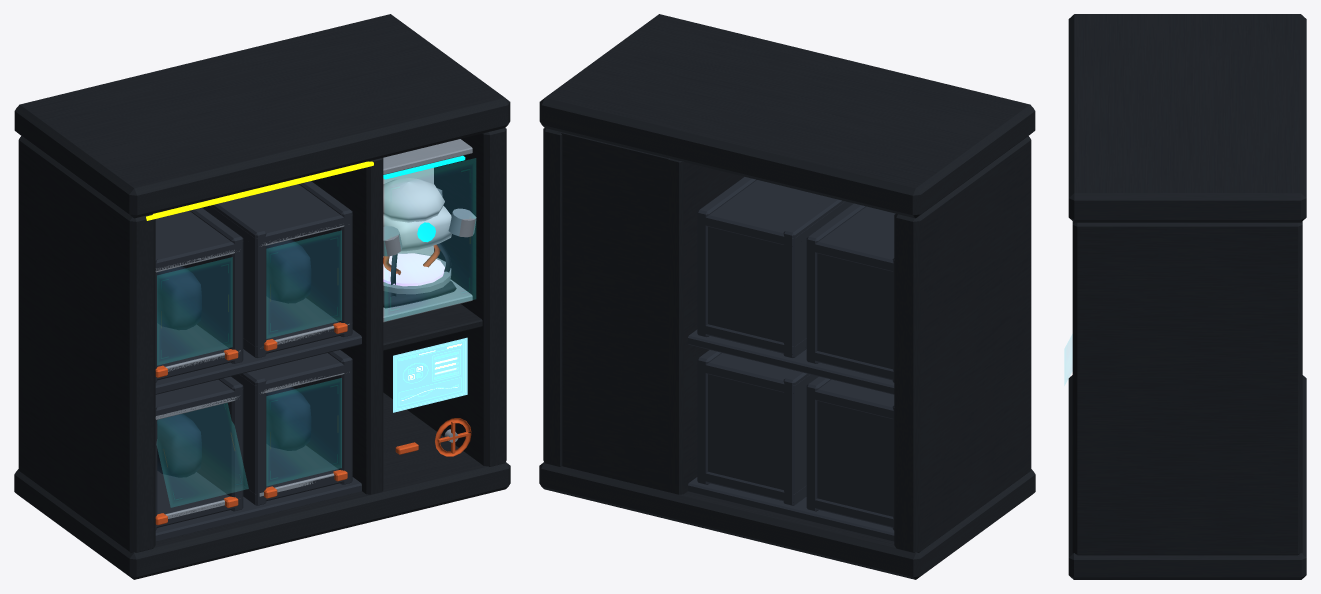
File: cargo_gantry_r1_02.glb
The picture shows the model from 3 angles, left to right: view 1: azimuth 30°, elevation 25°; view 2: azimuth 150°, elevation 25°; view 3: azimuth 270°, elevation 25°; orthographic projection.
Visible parts, largest first — view 1: Cargo02_SplitBayGunmetalGantry, Cargo02_CarbonSlateInterlockingMatrix, Cargo02_TranslucentContainerWindowsAndDroneShield, Cargo02_OrbitalNavyCargoBundles, Cargo02_MachinedHoistBeamAndDroneThrusters, Cargo02_RightTowerOLEDManifestTerminal, Cargo02_WhiteDroneCarapaceAndSupplyDrums, Cargo02_SignalOrangeTwistLocksClawsAndWinch, Cargo02_UVInductiveChargeCradle, Cargo02_AmberHoistAndSkidBeacons, Cargo02_CharcoalDroneCradleAndUmbilicals, Cargo02_CyanLiDARAndContainerLEDs; view 2: Cargo02_SplitBayGunmetalGantry, Cargo02_CarbonSlateInterlockingMatrix; view 3: Cargo02_SplitBayGunmetalGantry.
Part boxes in pixels (x1=…): Cargo02_SplitBayGunmetalGantry: x1=14, y1=14, x2=510, y2=579; Cargo02_CarbonSlateInterlockingMatrix: x1=155, y1=181, x2=361, y2=541; Cargo02_TranslucentContainerWindowsAndDroneShield: x1=157, y1=158, x2=475, y2=506; Cargo02_OrbitalNavyCargoBundles: x1=157, y1=240, x2=311, y2=477; Cargo02_MachinedHoistBeamAndDroneThrusters: x1=155, y1=139, x2=476, y2=518; Cargo02_RightTowerOLEDManifestTerminal: x1=393, y1=337, x2=467, y2=412; Cargo02_WhiteDroneCarapaceAndSupplyDrums: x1=383, y1=168, x2=451, y2=256; Cargo02_SignalOrangeTwistLocksClawsAndWinch: x1=155, y1=244, x2=471, y2=525; Cargo02_UVInductiveChargeCradle: x1=383, y1=253, x2=444, y2=286; Cargo02_AmberHoistAndSkidBeacons: x1=146, y1=161, x2=373, y2=220; Cargo02_CharcoalDroneCradleAndUmbilicals: x1=383, y1=242, x2=456, y2=308; Cargo02_CyanLiDARAndContainerLEDs: x1=383, y1=155, x2=465, y2=242; Cargo02_SplitBayGunmetalGantry: x1=539, y1=14, x2=1035, y2=579; Cargo02_CarbonSlateInterlockingMatrix: x1=688, y1=177, x2=895, y2=541; Cargo02_SplitBayGunmetalGantry: x1=1068, y1=14, x2=1306, y2=579.
Size of the model in its own units: 2.65 by 2.6 by 1.48.
12 materials, 12 textured.
